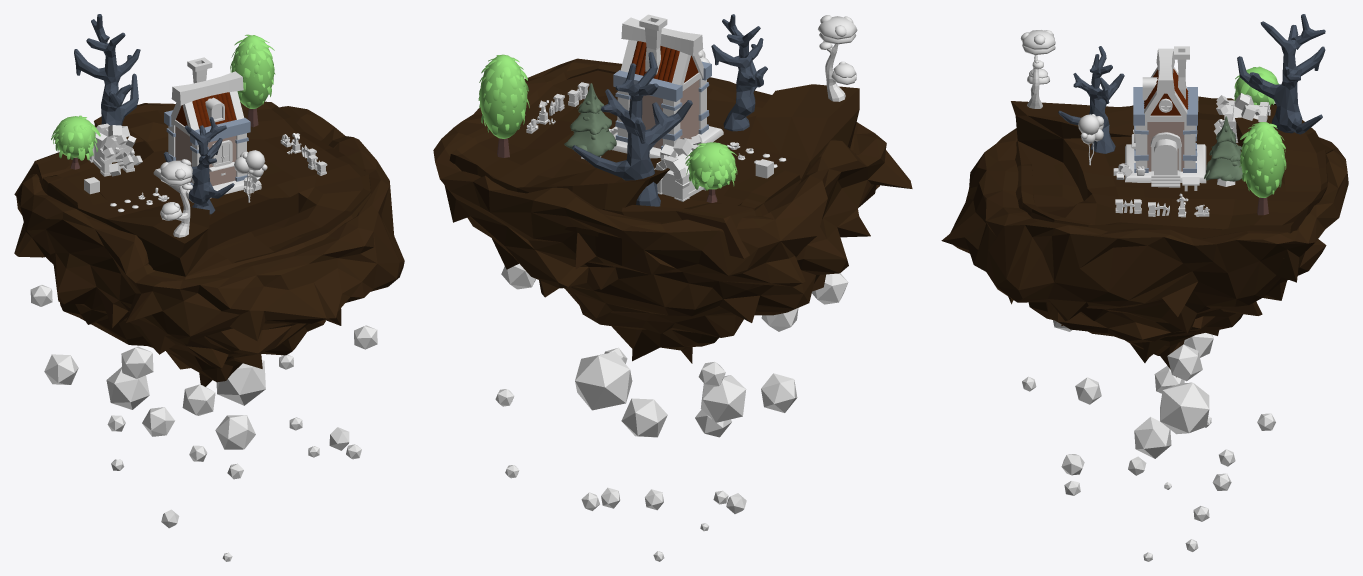
The model's file is land.fbx.
The picture shows the model from 3 angles, left to right: view 1: azimuth 30°, elevation 25°; view 2: azimuth 150°, elevation 25°; view 3: azimuth 270°, elevation 25°; orthographic projection. The views are drawn at different scales.
Visible parts, largest first — view 1: Cube, Plane.045, Icosphere.002, Vert.001, Icosphere.001, Icosphere.003, Vert, Cube.048, Cube.023, Cube.017, Cube.047, Plane.004 (+8 smaller); view 2: Cube, Plane.045, Vert.001, Icosphere.002, Icosphere.001, Vert, Cube.048, Icosphere.003, Cube.017, Plane.004, Cube.023, Cube.047 (+12 smaller); view 3: Cube, Plane.045, Vert.001, Icosphere.001, Icosphere.002, Cube.048, Vert, Plane.004, Icosphere.003, Cube.024, Cube.018, Cube.019 (+8 smaller).
Part boxes in pixels (<box>): Cube: <box>14,103,404,386</box>; Plane.045: <box>14,101,371,279</box>; Icosphere.002: <box>30,285,377,528</box>; Vert.001: <box>74,14,140,125</box>; Icosphere.001: <box>215,360,265,561</box>; Icosphere.003: <box>106,367,174,470</box>; Vert: <box>163,117,234,214</box>; Cube.048: <box>231,35,274,108</box>; Cube.023: <box>171,71,243,105</box>; Cube.017: <box>175,126,236,185</box>; Cube.047: <box>55,116,95,157</box>; Plane.004: <box>230,34,275,107</box>; Cube: <box>433,58,912,363</box>; Plane.045: <box>449,64,859,258</box>; Vert.001: <box>572,52,692,206</box>; Icosphere.002: <box>495,263,848,513</box>; Icosphere.001: <box>575,351,667,561</box>; Vert: <box>711,14,767,131</box>; Cube.048: <box>479,54,527,138</box>; Icosphere.003: <box>695,375,746,531</box>; Cube.017: <box>629,79,699,148</box>; Plane.004: <box>478,55,529,134</box>; Cube.023: <box>621,17,703,56</box>; Cube.047: <box>688,142,735,189</box>; Cube: <box>941,96,1348,377</box>; Plane.045: <box>1011,98,1327,258</box>; Vert.001: <box>1237,14,1325,134</box>; Icosphere.001: <box>1134,382,1209,561</box>; Icosphere.002: <box>1022,320,1275,551</box>; Cube.048: <box>1241,122,1285,197</box>; Vert: <box>1058,46,1124,153</box>; Plane.004: <box>1239,123,1286,194</box>; Icosphere.003: <box>1154,333,1213,489</box>; Cube.024: <box>1125,144,1206,183</box>; Cube.018: <box>1135,122,1195,168</box>; Cube.019: <box>1133,87,1197,125</box>.
Size of the model in its own units: 3216 by 4956 by 3512.
